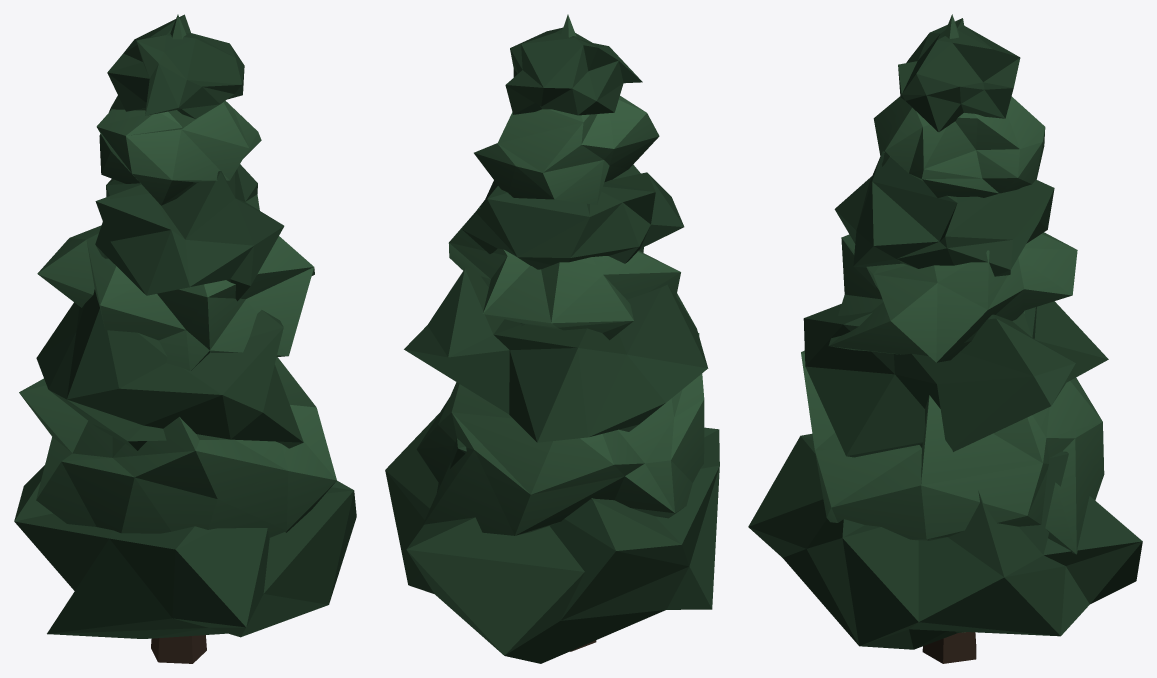
File: arborvitae-conifer.glb
3 views of the same model, side by side, from view 1: azimuth 30°, elevation 25°; view 2: azimuth 150°, elevation 25°; view 3: azimuth 270°, elevation 25° (orthographic). The views are drawn at different scales.
Parts seen in each view (by area): view 1: arborvitae_conifer; view 2: arborvitae_conifer; view 3: arborvitae_conifer.
Part boxes in pixels (<box>): arborvitae_conifer: <box>14,14,356,663</box>; arborvitae_conifer: <box>385,14,719,663</box>; arborvitae_conifer: <box>748,14,1142,663</box>.
Bounding box in the file's own units: 1.65 × 3.33 × 1.86.
